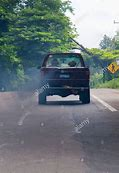smoke: (13, 63, 45, 100)
